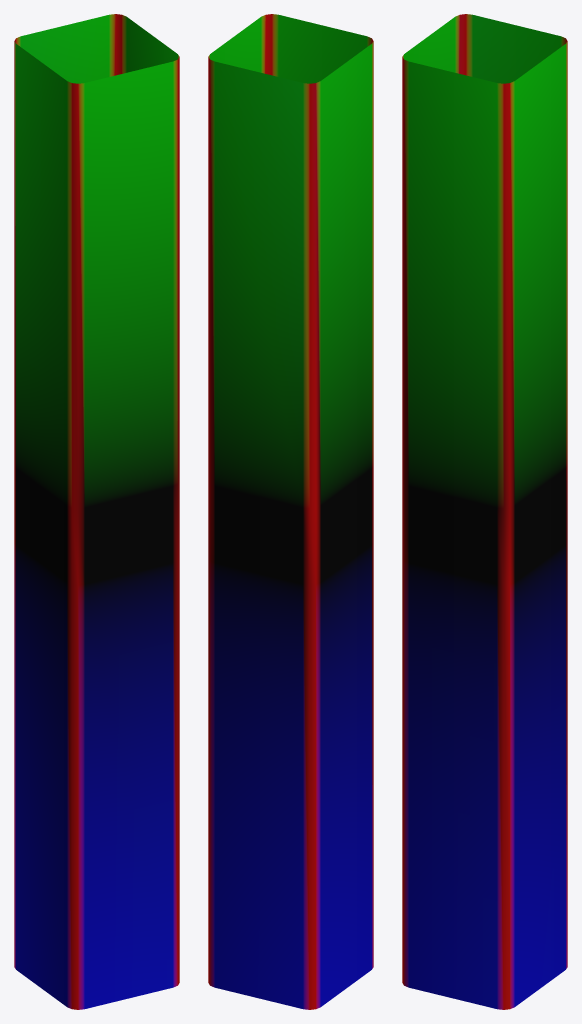
File: ColumnV4.fbx
3 views of the same model, side by side, from view 1: azimuth 30°, elevation 25°; view 2: azimuth 150°, elevation 25°; view 3: azimuth 330°, elevation 25° (orthographic).
Parts seen in each view (by area): view 1: ColumnV4; view 2: ColumnV4; view 3: ColumnV4.
Part boxes in pixels (x1,y1,x2,y2): ColumnV4: [14, 14, 179, 1009]; ColumnV4: [208, 14, 373, 1009]; ColumnV4: [402, 14, 567, 1009].
Size of the model in its own units: 50 by 400 by 50.
